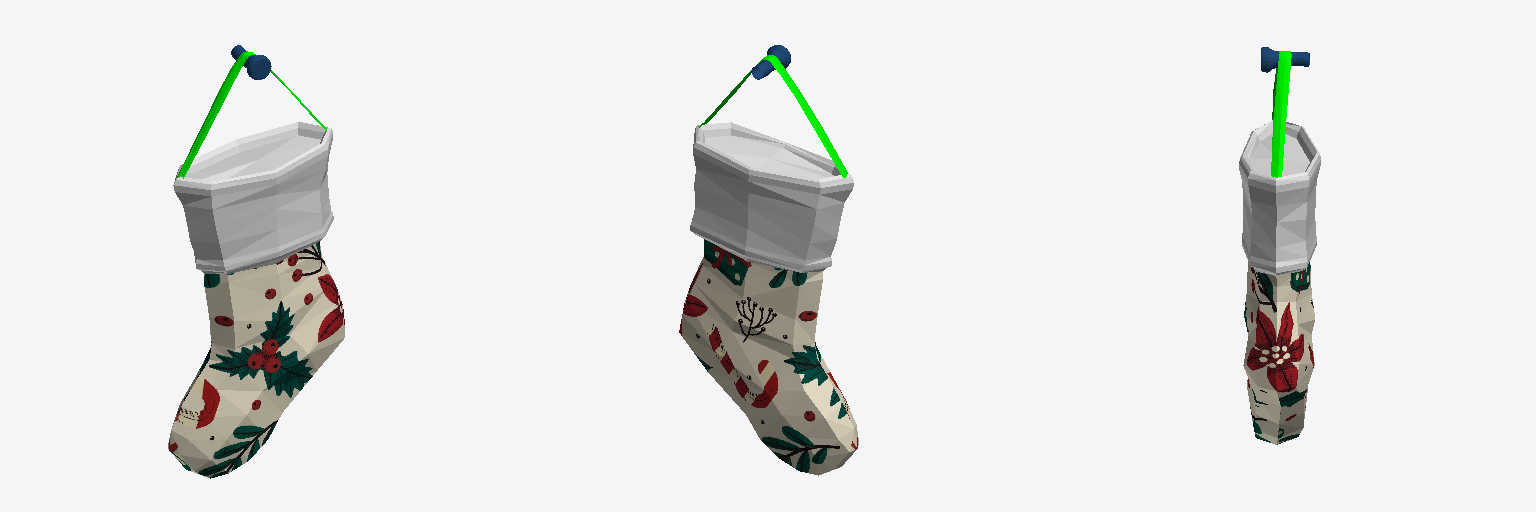
The picture shows the model from 3 angles: view 1: azimuth 30°, elevation 25°; view 2: azimuth 150°, elevation 25°; view 3: azimuth 270°, elevation 25°; orthographic projection.
Parts seen in each view (by area): view 1: peluche_Noel_Sock_2020.007; view 2: peluche_Noel_Sock_2020.007; view 3: peluche_Noel_Sock_2020.007.
Boxes of the visible parts, x1,y1,x2,y2 form: peluche_Noel_Sock_2020.007: [168, 45, 344, 478]; peluche_Noel_Sock_2020.007: [679, 45, 858, 475]; peluche_Noel_Sock_2020.007: [1239, 47, 1320, 444].
Size of the model in its own units: 0.1238 by 0.2785 by 0.0502.
Materials: 4 (4 with a texture image).